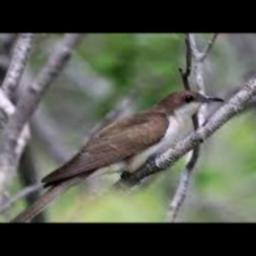Cuckoo: (9, 91, 226, 223)
